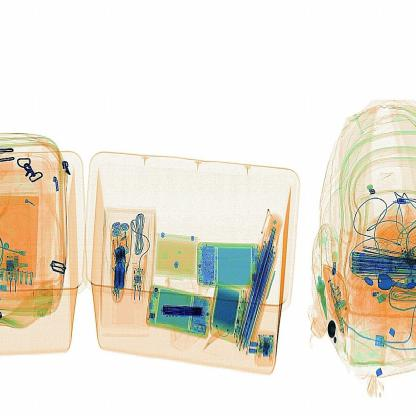scissors: (159, 298, 206, 329)
